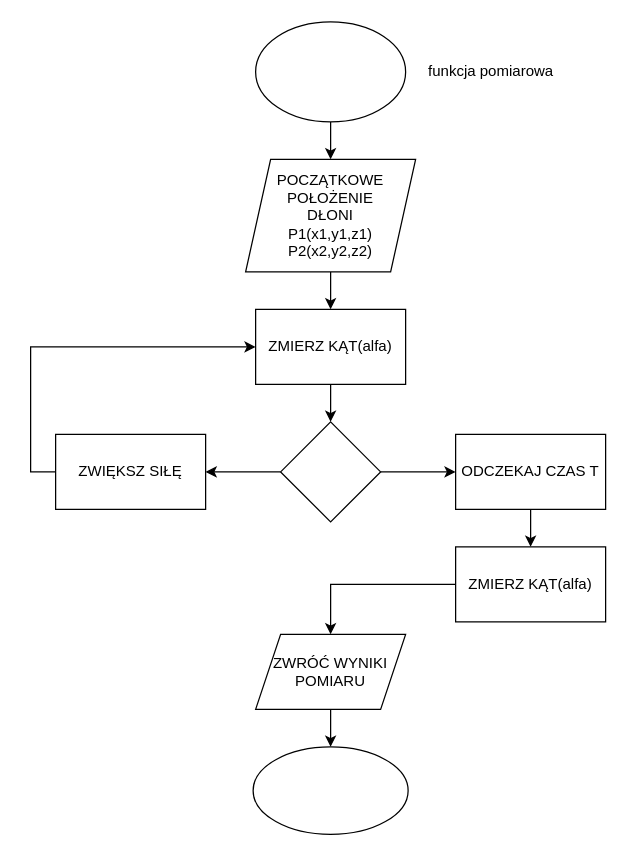
The diagram is 628 pixels wide and 856 high, and some of its shapes have lost their labels. The box of each missing label's shape, as (x1, y1, x2, y2) in pixels:
15 o <= alfa: (279, 421, 381, 522)
KONIEC: (252, 746, 408, 834)
START: (254, 21, 406, 122)
